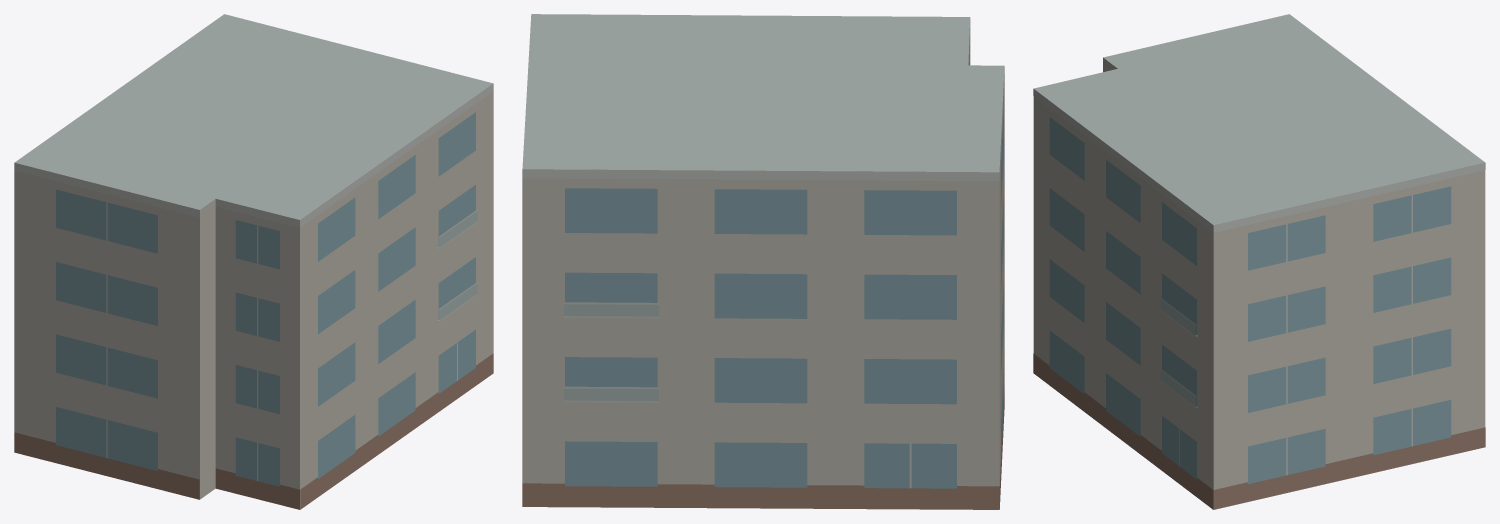
The model's file is survey-upis-32612904.glb.
The picture shows the model from 3 angles, left to right: view 1: azimuth 30°, elevation 25°; view 2: azimuth 150°, elevation 25°; view 3: azimuth 270°, elevation 25°; orthographic projection. The views are drawn at different scales.
Visible parts, largest first — view 1: survey-upis-32612904.tmp; view 2: survey-upis-32612904.tmp; view 3: survey-upis-32612904.tmp.
Part boxes in pixels (x1=…): survey-upis-32612904.tmp: x1=14, y1=14, x2=493, y2=509; survey-upis-32612904.tmp: x1=522, y1=14, x2=1004, y2=509; survey-upis-32612904.tmp: x1=1033, y1=14, x2=1485, y2=509.
Bounding box in the file's own units: 14.59 × 9.16 × 13.2.
